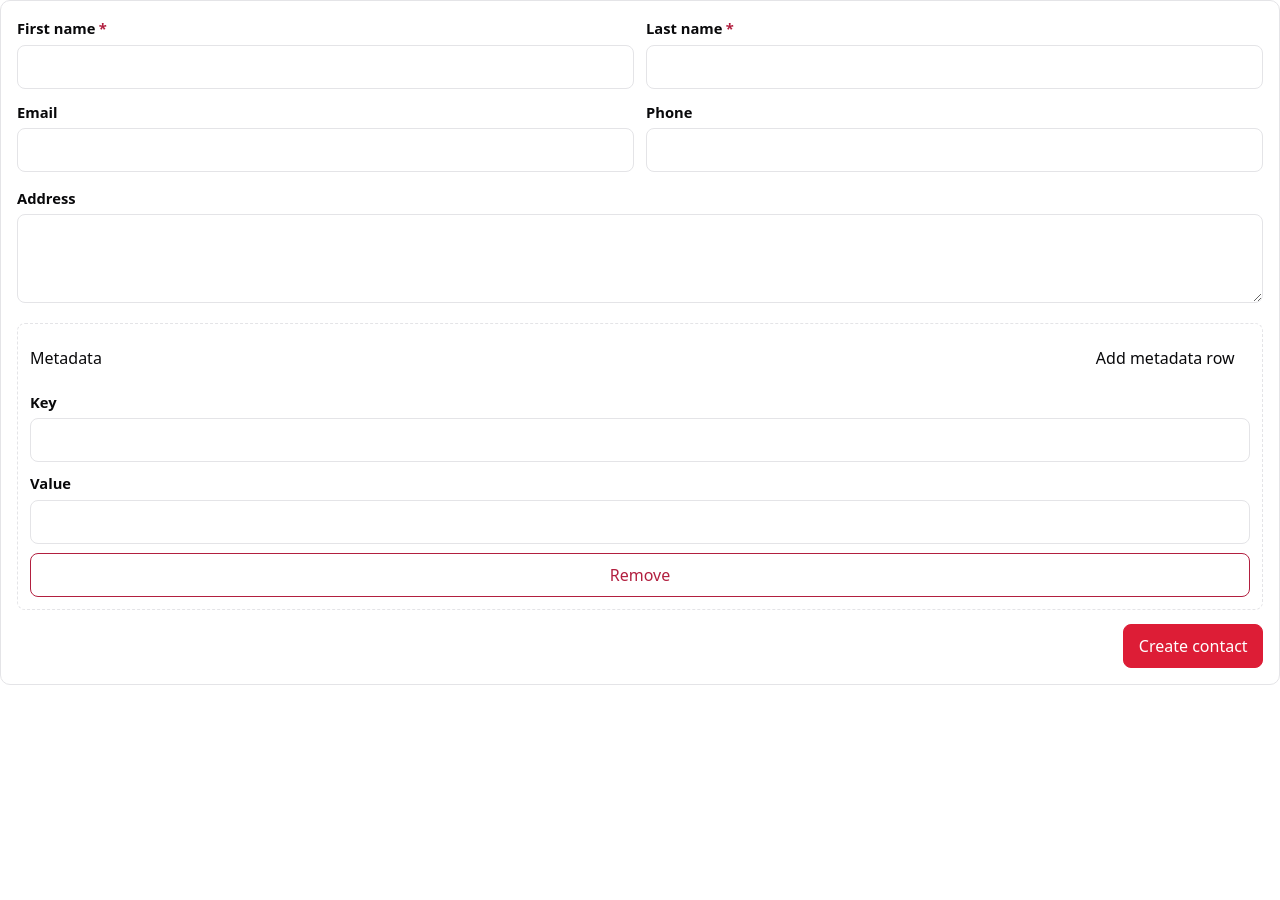
ContactForm › shows required field errors when submitted empty
Click the button "Create contact" at (1193, 646), box [1123,624,1263,668]
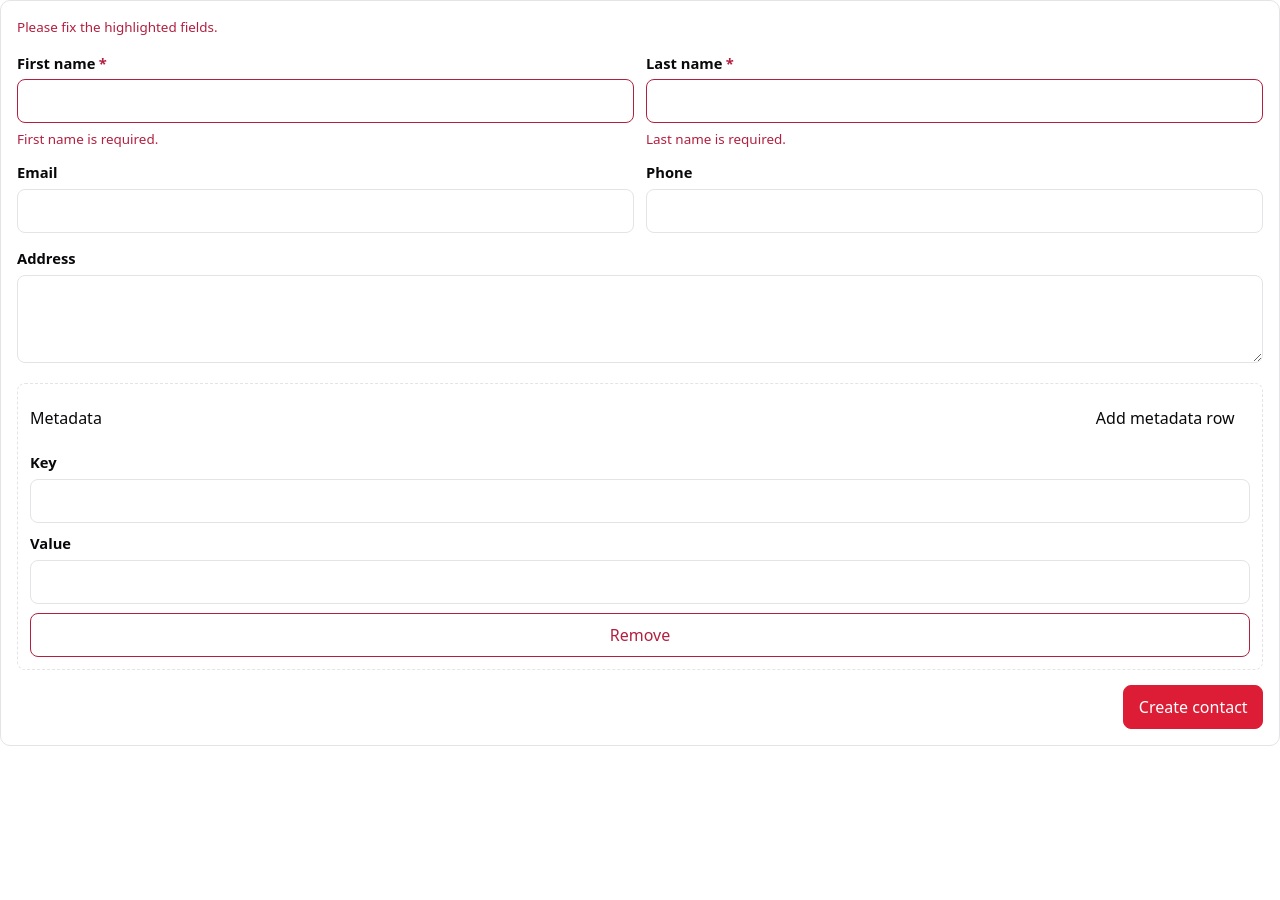
expect the text "First name is required." is shown: met, box [17,130,158,148]
expect the text "Last name is required." is shown: met, box [646,130,786,148]
